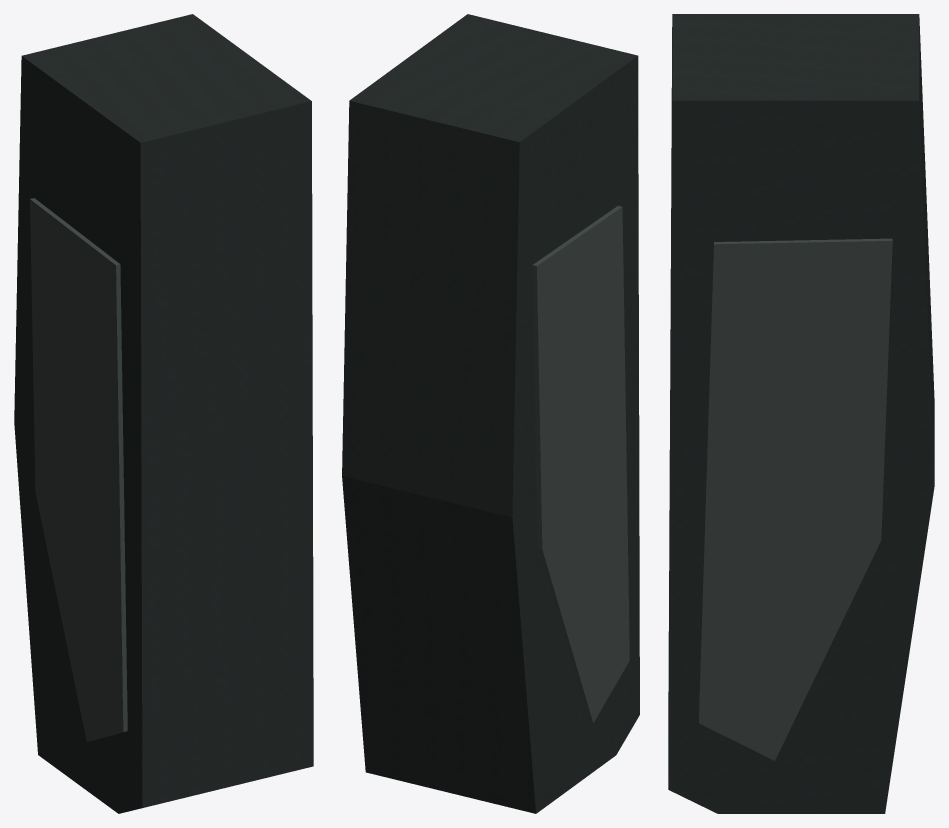
Rendered from kedr_grip.glb.
The picture shows the model from 3 angles, left to right: view 1: azimuth 30°, elevation 25°; view 2: azimuth 150°, elevation 25°; view 3: azimuth 270°, elevation 25°; orthographic projection. The views are drawn at different scales.
Visible parts, largest first — view 1: kedr_grip_item_profile, kedr_grip_item_profile.001, kedr_grip_molded_panel; view 2: kedr_grip_item_profile, kedr_grip_item_profile.001, kedr_grip_molded_panel; view 3: kedr_grip_item_profile, kedr_grip_molded_panel, kedr_grip_item_profile.001.
Part boxes in pixels (box(x1,y1,x2,y2)): kedr_grip_item_profile: box(19, 19, 305, 804); kedr_grip_item_profile.001: box(14, 14, 313, 813); kedr_grip_molded_panel: box(30, 198, 127, 741); kedr_grip_item_profile: box(350, 19, 635, 804); kedr_grip_item_profile.001: box(342, 14, 639, 813); kedr_grip_molded_panel: box(532, 205, 629, 723); kedr_grip_item_profile: box(668, 18, 934, 805); kedr_grip_molded_panel: box(699, 238, 892, 760); kedr_grip_item_profile.001: box(668, 14, 934, 813).
Size of the model in its own units: 0.0568 by 0.207 by 0.07.
2 materials, 1 textured.
